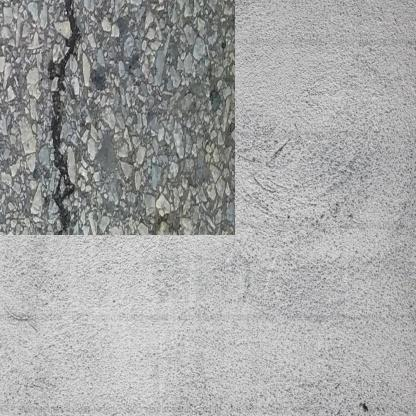Cracks: (42, 0, 76, 217)
